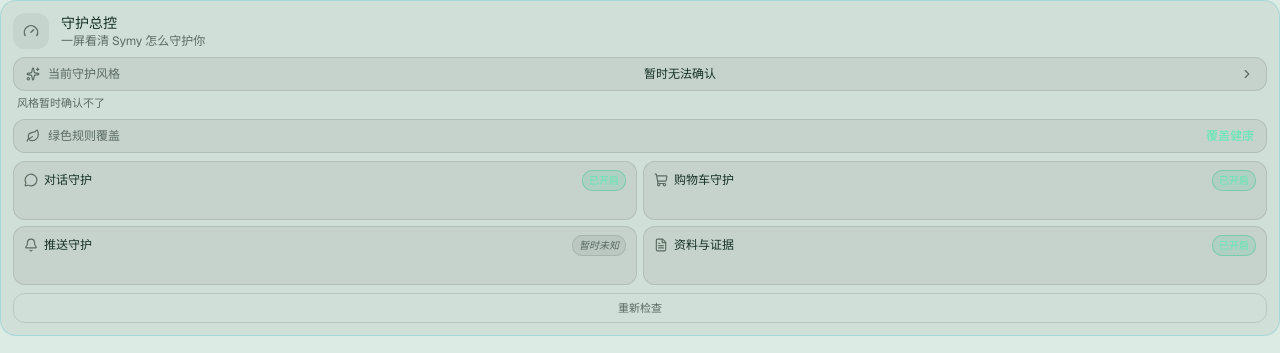
Test: GuardControlIndex — 降级与轻试 › 任一探测 reject: 该维度 unknown + 风格 unknown, 其他组照常, 重试强刷后恢复
Click the button with test id "guard-control-retry": (640, 308) [13,293,1267,323]
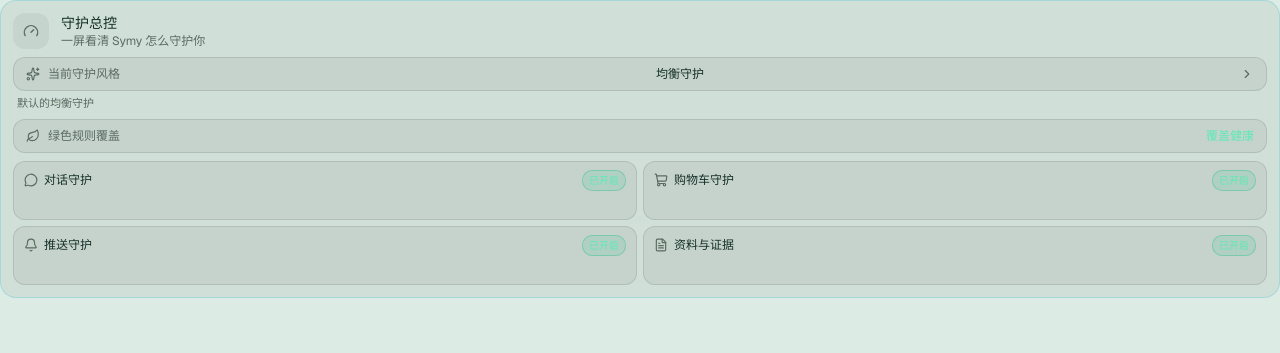
Now the button with test id "guard-control-retry" is gone
